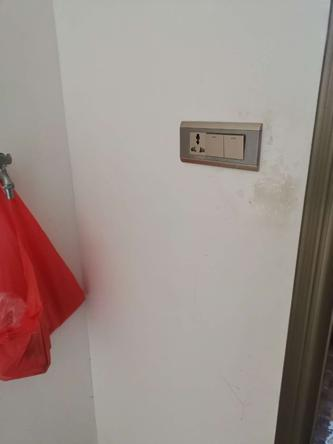switch: (220, 130, 249, 161), (202, 130, 225, 160)
